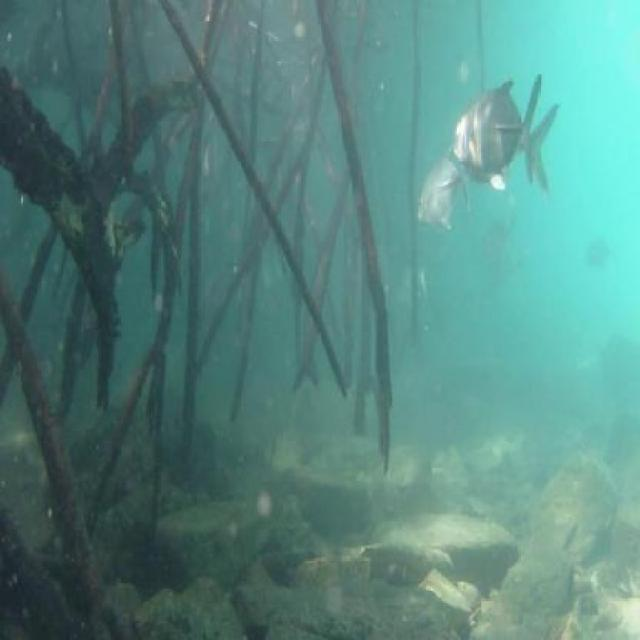Caranx_sexfasciatus_juvenile: (455, 64, 557, 196), (466, 93, 562, 216), (413, 140, 476, 243), (480, 213, 523, 262)
